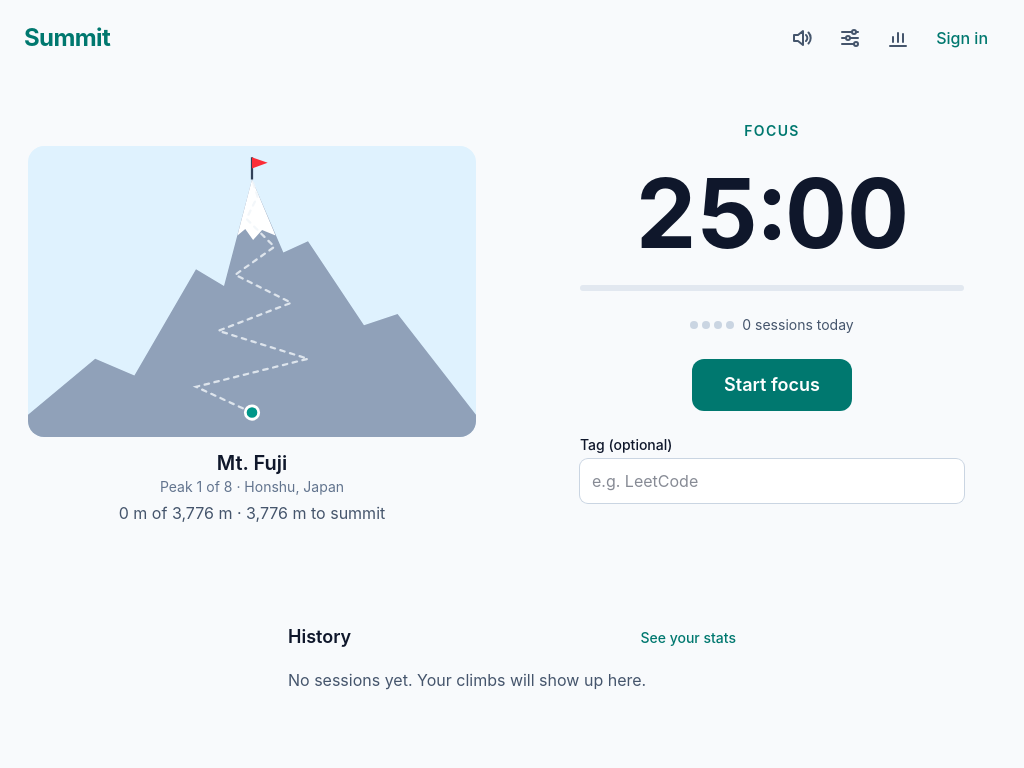
guests › tag their sessions on this device, and get them offered next time
Type "Rust" into the field labelled "Tag (optional)" at {"x": 772, "y": 480}, box [580,458,964,502]
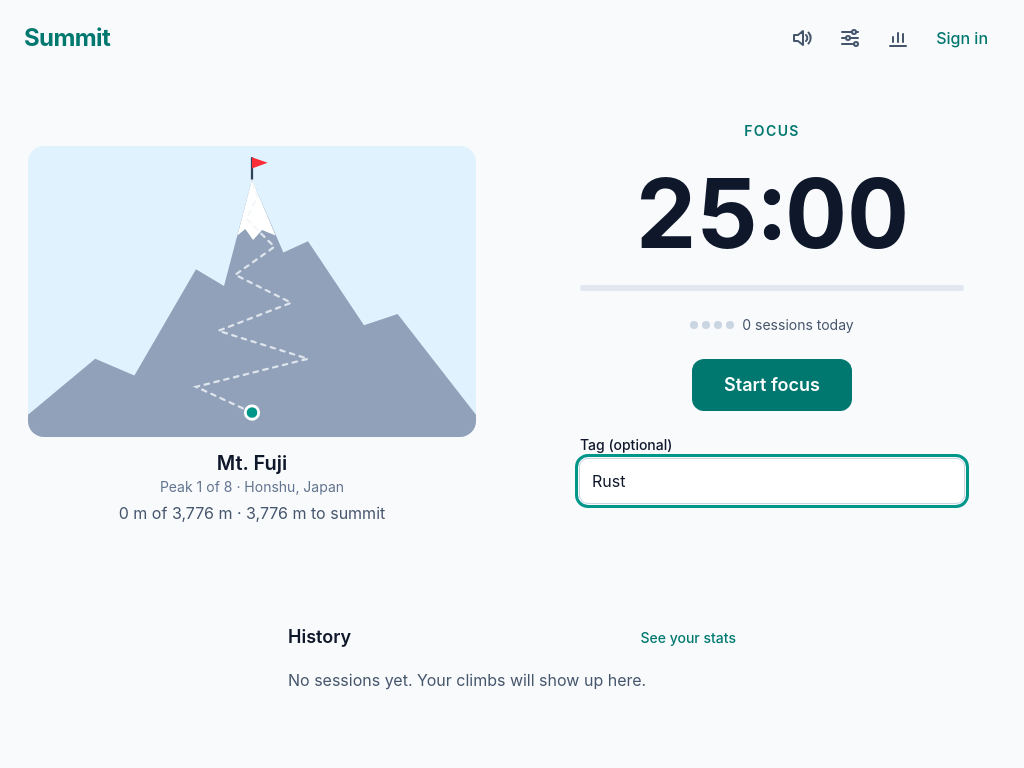
Click the button "Start focus" at {"x": 772, "y": 384}, box [692,358,852,410]
Wait 1500000 ms
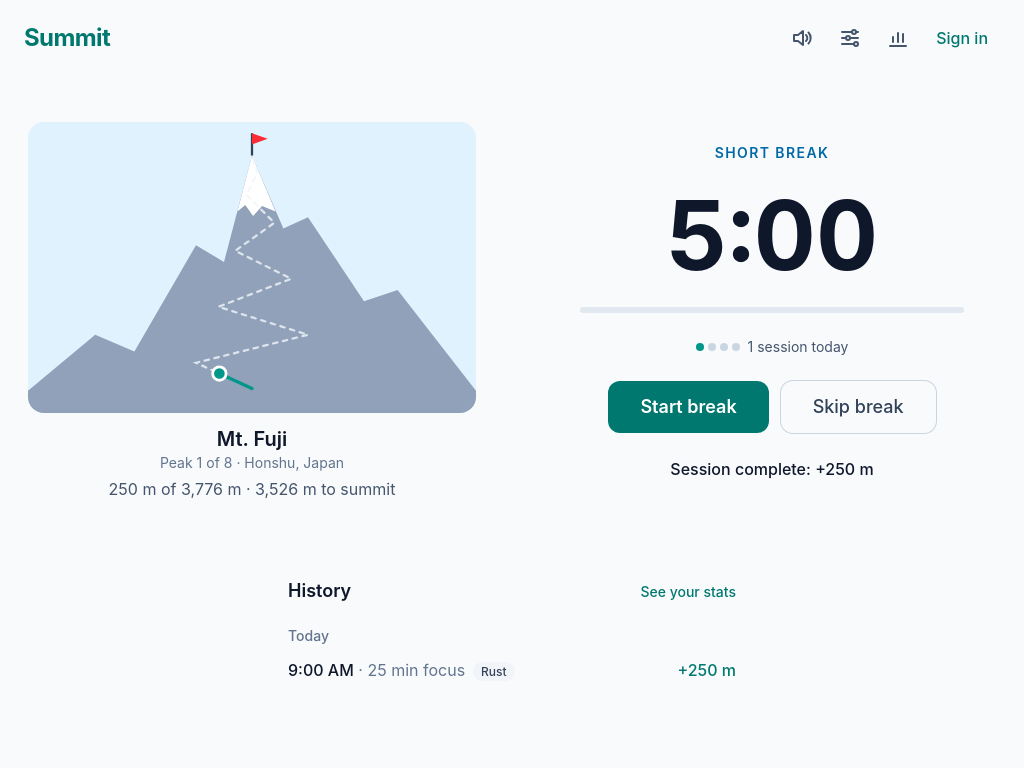
Click the button "Skip break" at {"x": 858, "y": 407}, box [781,381,936,433]
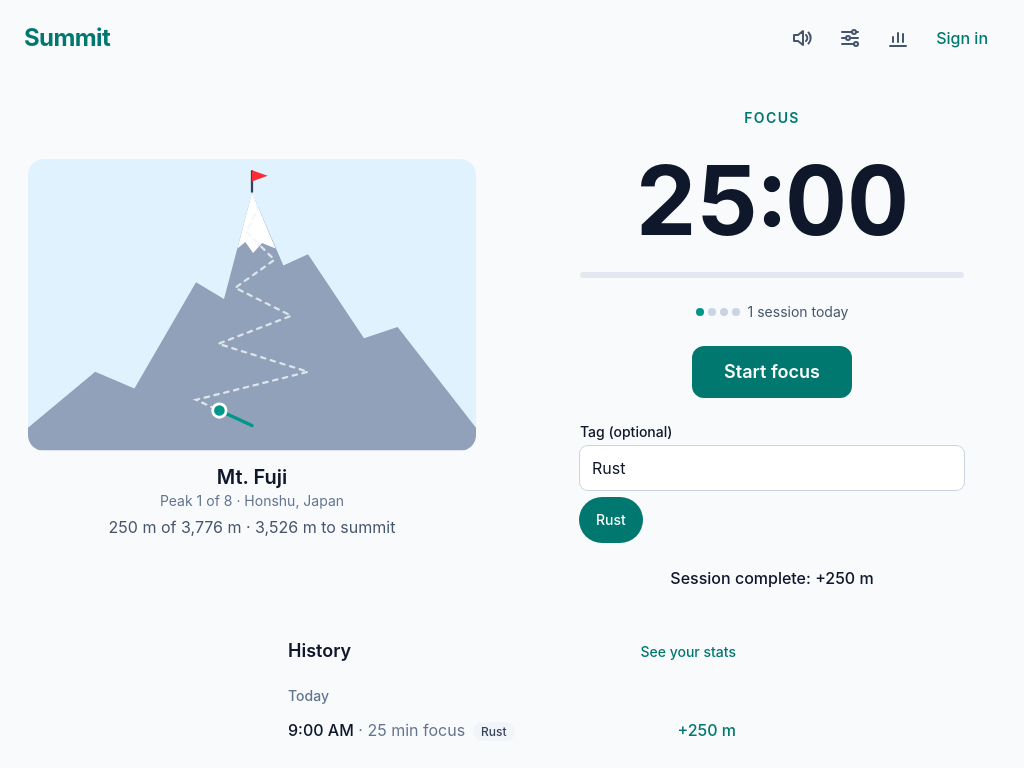
Now the element named "Recent tags" reads "Rust", box [580,498,642,542]
Now the button "Rust" is shown, box [580,498,642,542]
